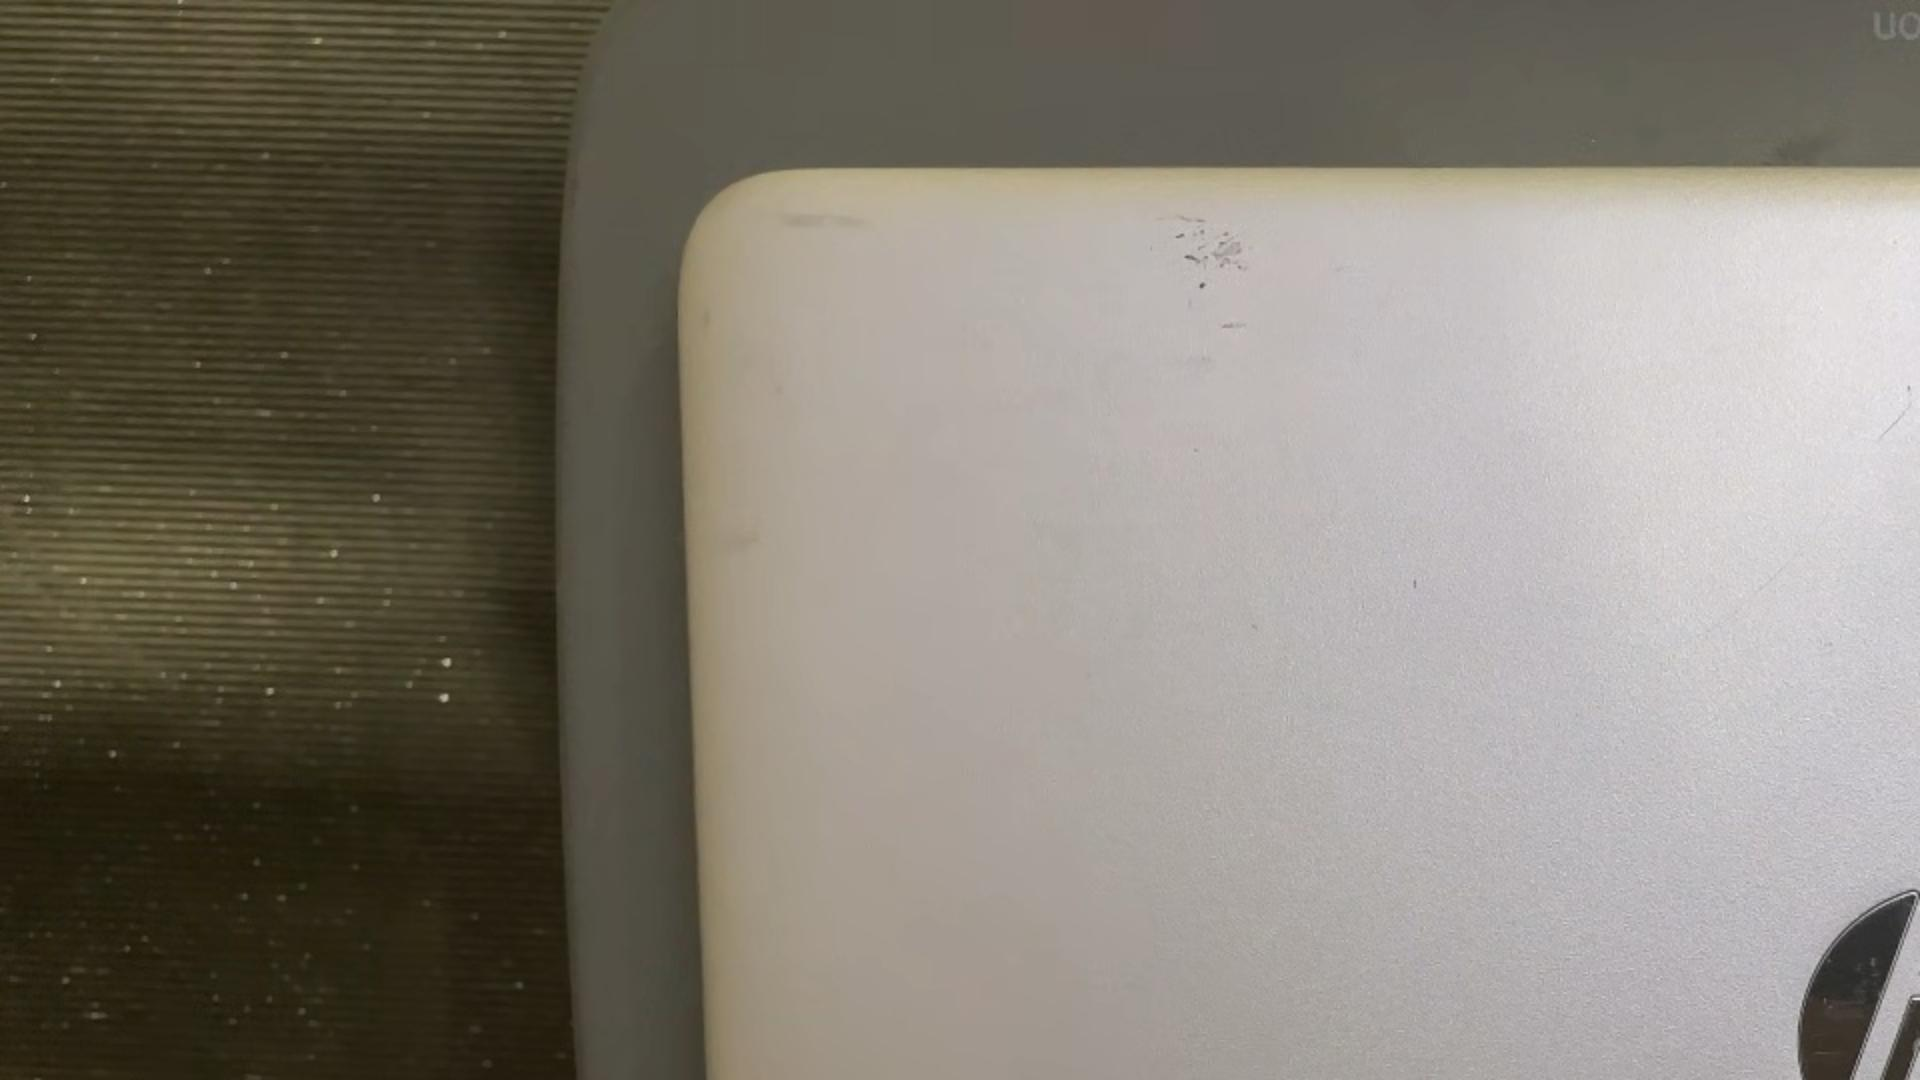scratches: (1669, 505, 1834, 653), (1875, 378, 1915, 442), (1813, 1050, 1846, 1056)
